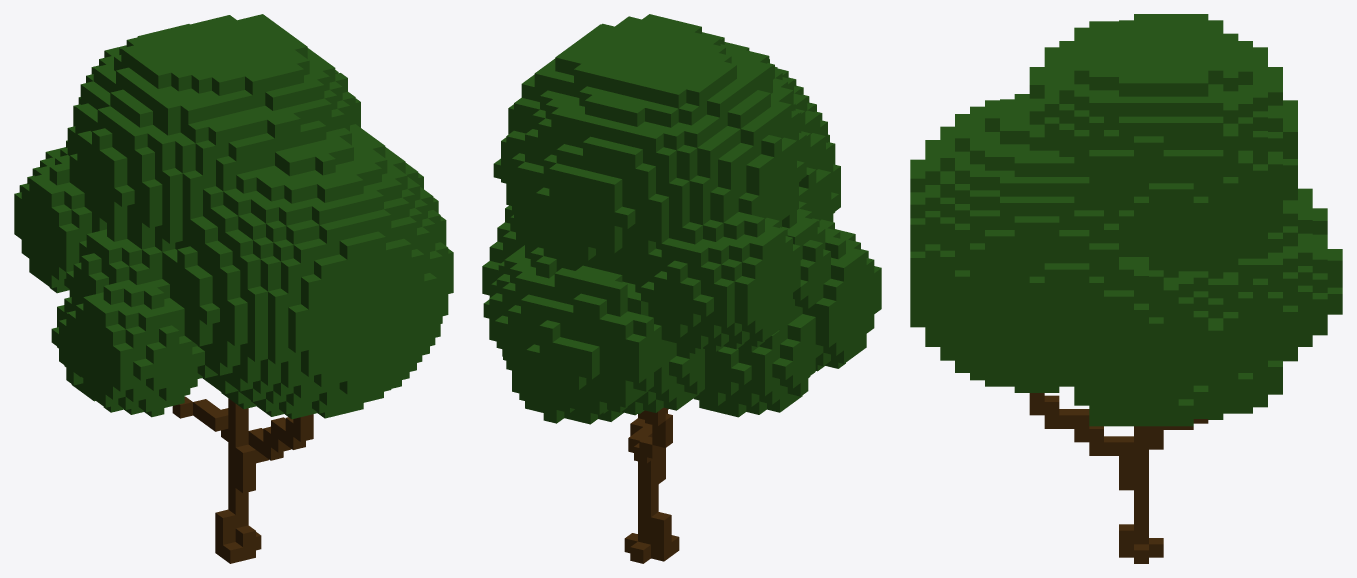
Rendered from bush3bb.obj.
3 views of the same model, side by side, from view 1: azimuth 30°, elevation 25°; view 2: azimuth 150°, elevation 25°; view 3: azimuth 270°, elevation 25° (orthographic).
Bounding box in the file's own units: 2.5 × 3.7 × 2.9.
Materials: 1 (1 with a texture image).
